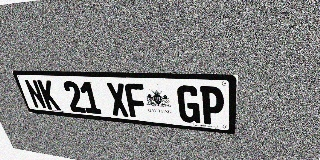1: (77, 81, 102, 114)
2: (62, 81, 86, 113)
F: (124, 83, 148, 119)
G: (177, 85, 200, 124)
K: (37, 80, 61, 110)
N: (23, 79, 48, 109)
P: (200, 86, 224, 126)
X: (106, 82, 130, 117)
